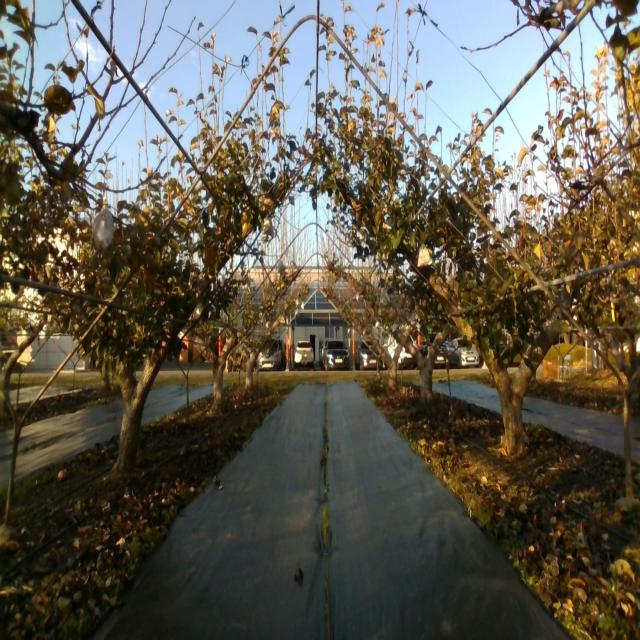pearbags: (92, 205, 116, 250), (417, 243, 433, 267), (263, 216, 274, 238)
